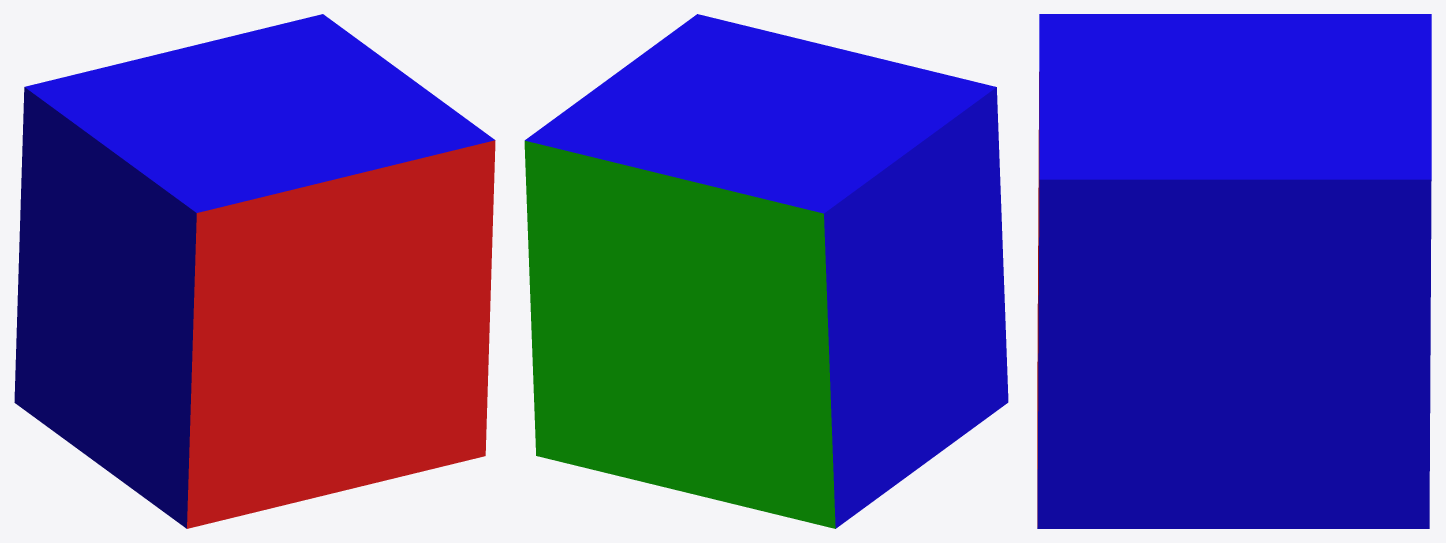
Rendered from cubo prueba.FBX.
3 views of the same model, side by side, from view 1: azimuth 30°, elevation 25°; view 2: azimuth 150°, elevation 25°; view 3: azimuth 270°, elevation 25° (orthographic). The views are drawn at different scales.
Parts seen in each view (by area): view 1: Box001; view 2: Box001; view 3: Box001.
Boxes of the visible parts, box(x1,y1,x2,y2) form: Box001: box(14, 14, 495, 528); Box001: box(524, 14, 1008, 528); Box001: box(1037, 14, 1431, 528).
Size of the model in its own units: 1.04 by 1 by 1.01.
